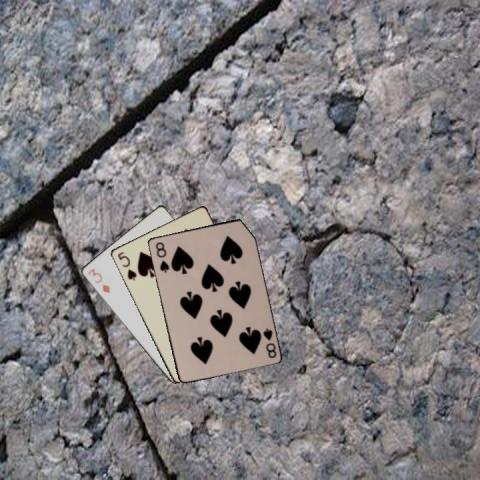3d: (85, 265, 111, 295)
5s: (115, 249, 138, 282)
8s: (152, 239, 171, 274), (260, 325, 277, 359)
